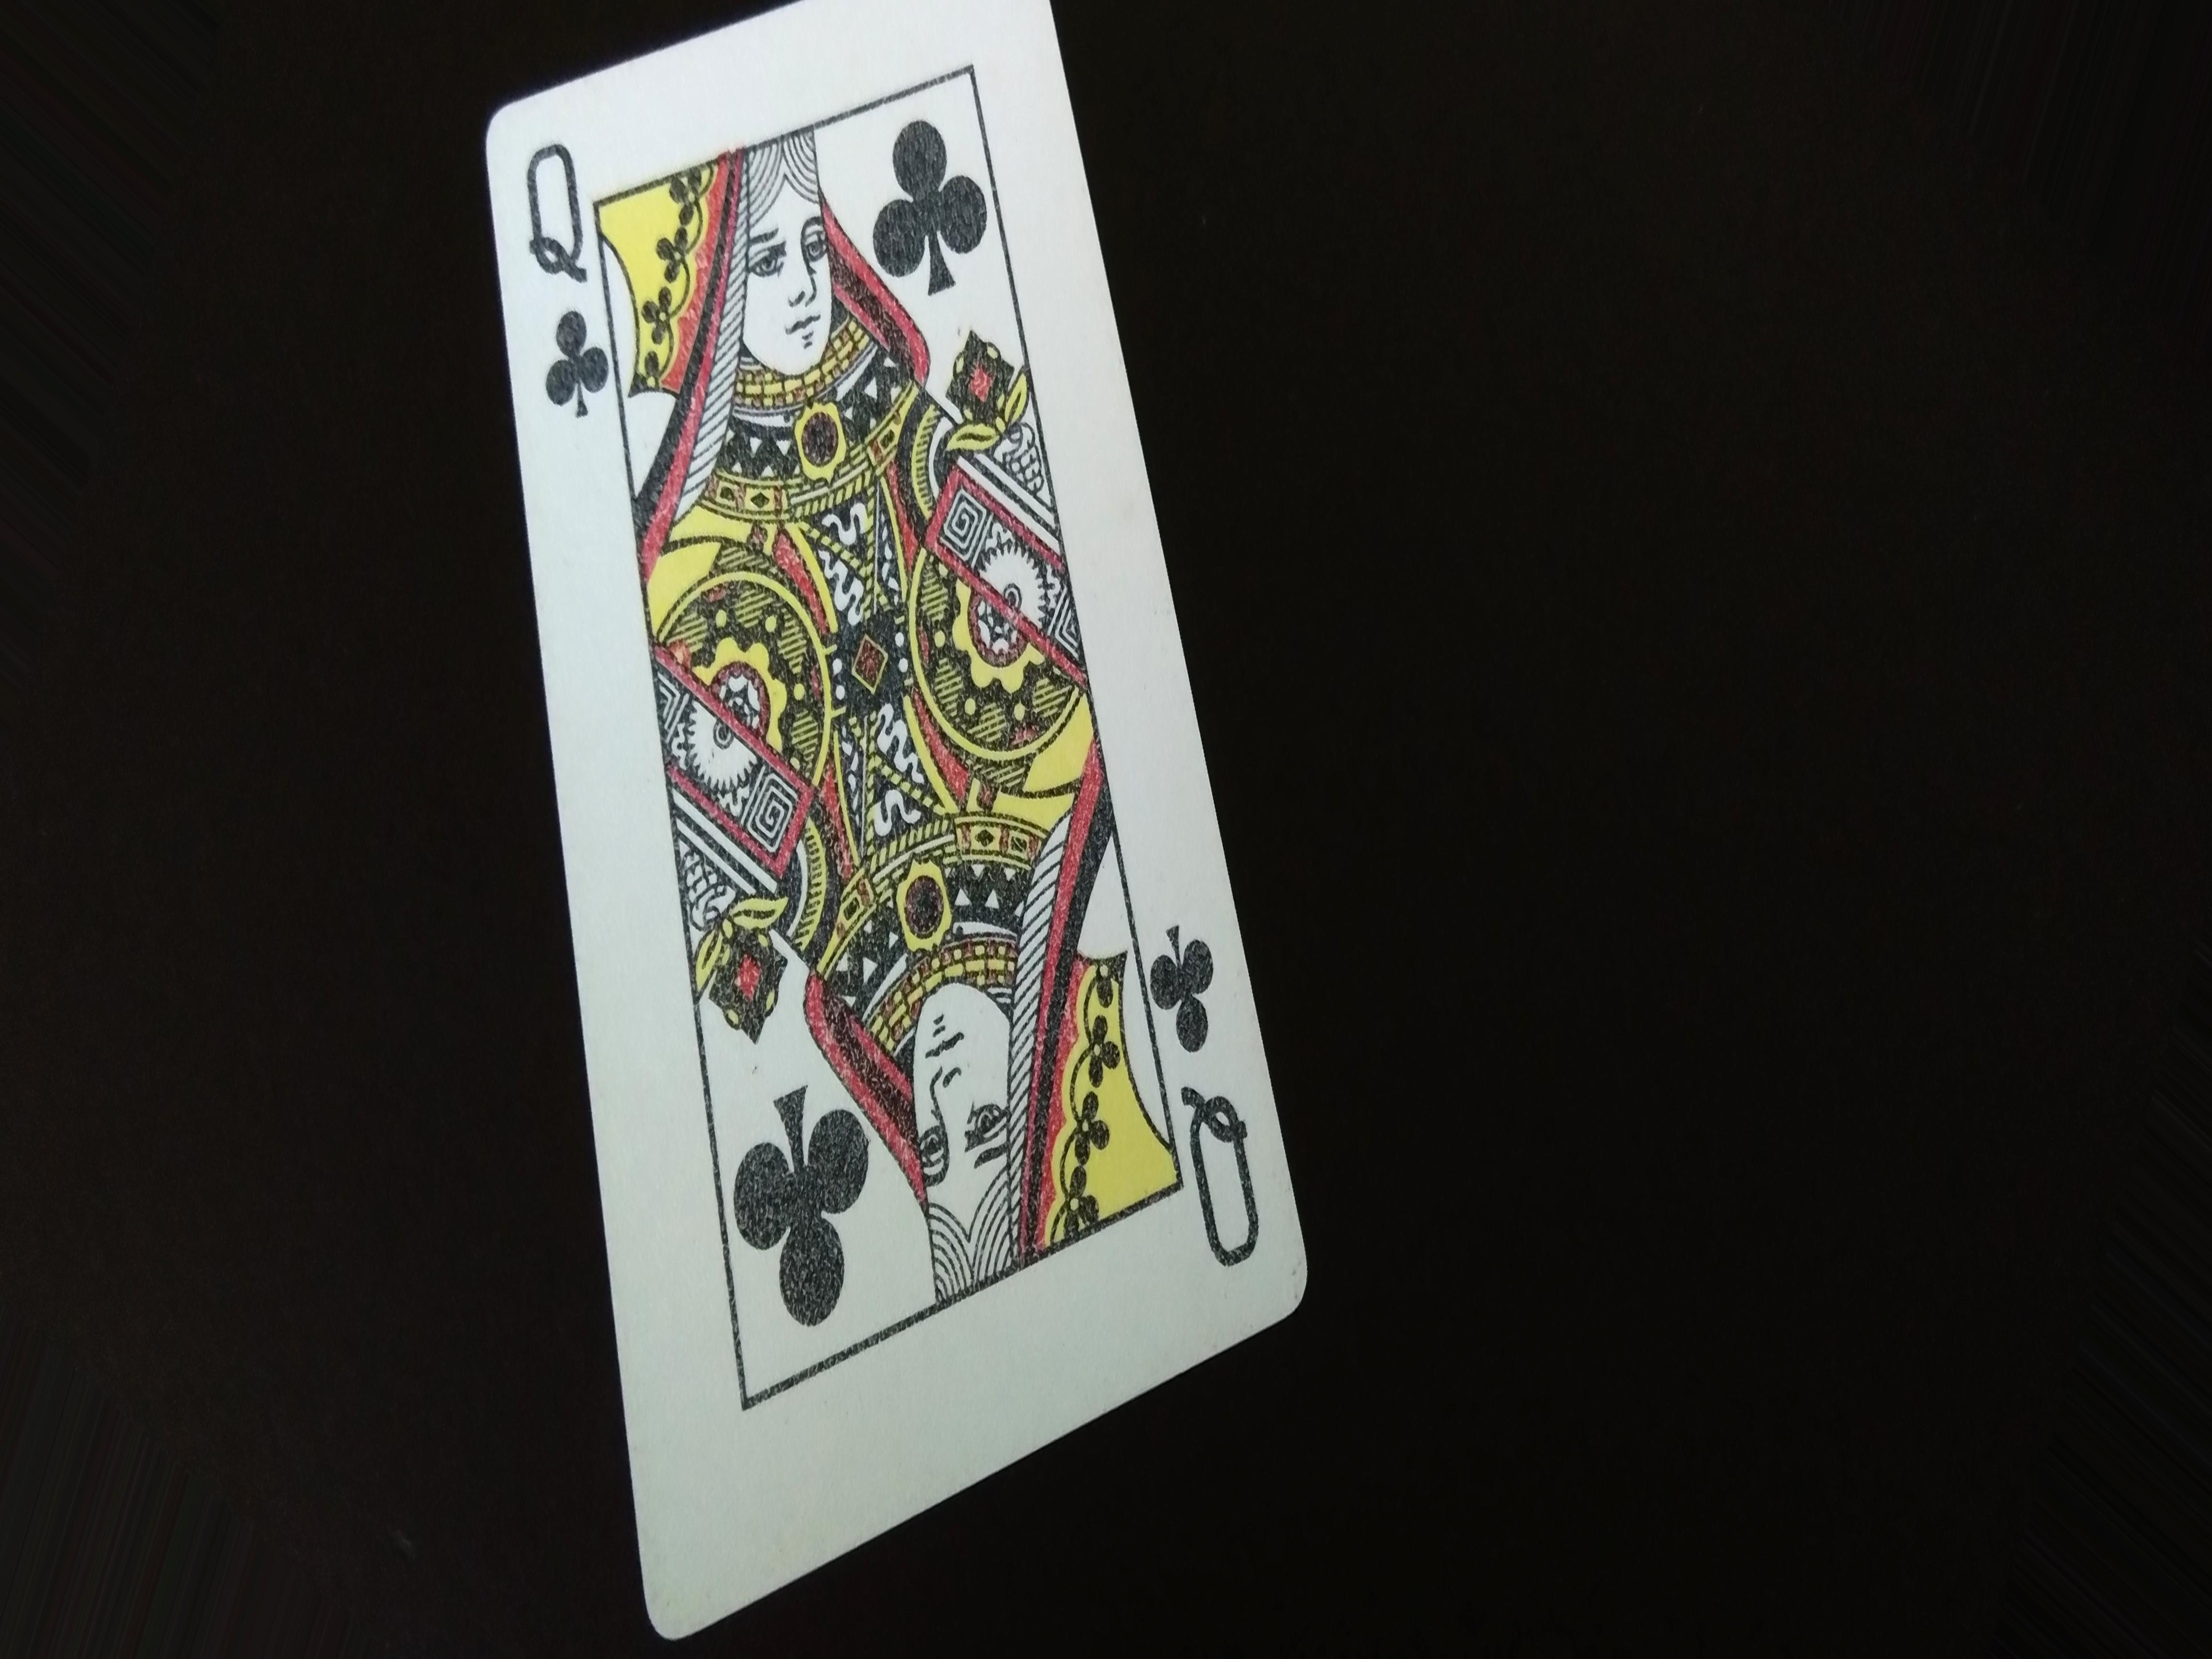QC: (502, 131, 613, 437)
